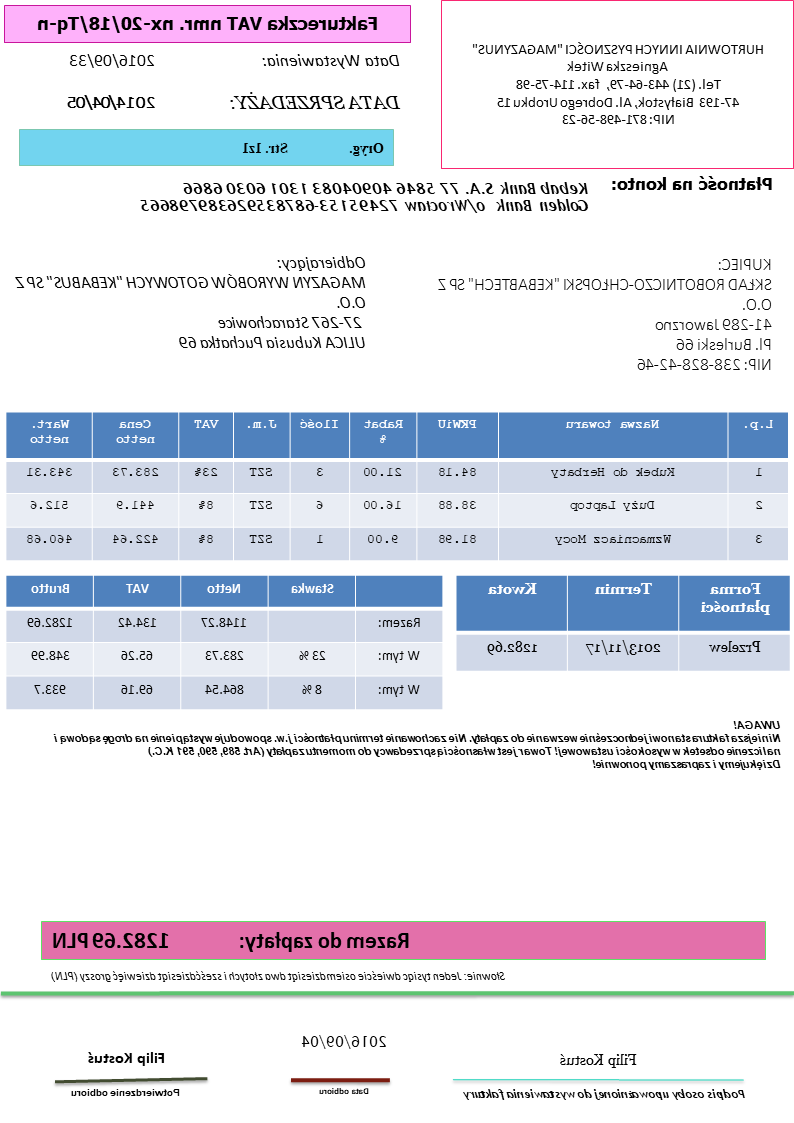Table: (4, 408, 790, 564), (4, 573, 445, 713), (456, 574, 792, 673)
TextBox: (50, 714, 785, 773), (435, 252, 776, 377), (10, 252, 369, 355), (470, 40, 770, 130), (137, 179, 593, 217), (49, 924, 413, 955), (50, 964, 511, 985), (35, 13, 384, 36), (457, 1086, 749, 1104), (229, 88, 404, 115), (610, 172, 780, 196), (240, 135, 390, 160), (261, 47, 406, 71), (64, 89, 160, 114), (297, 1027, 390, 1052), (81, 1046, 170, 1067), (558, 1048, 642, 1070), (69, 1084, 183, 1100), (67, 51, 159, 70), (314, 1082, 376, 1099)
